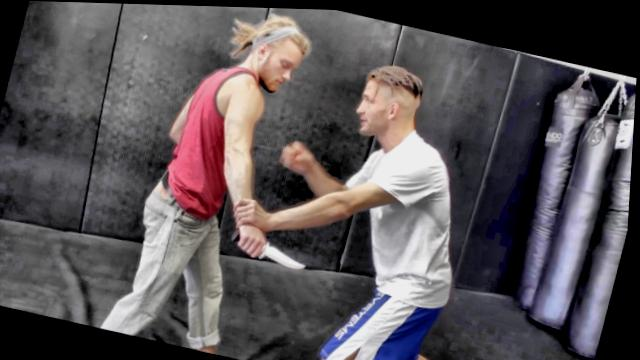knife: (224, 225, 317, 276)
